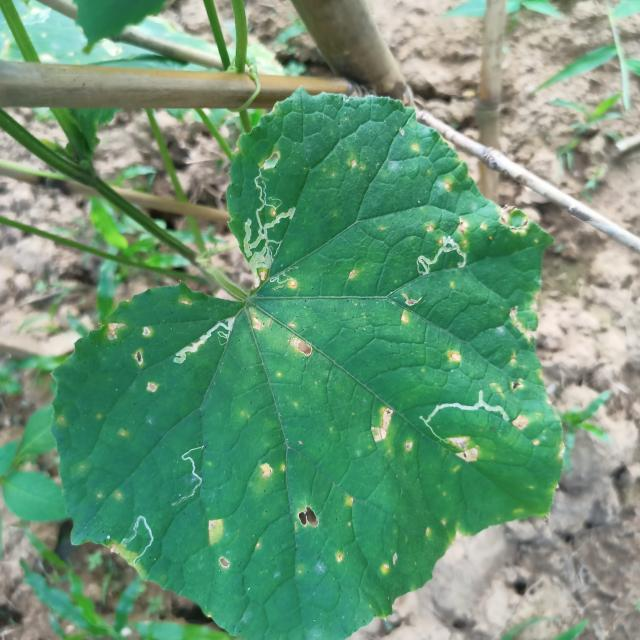disease_cucumber: (294, 490, 402, 588), (338, 130, 460, 198), (99, 316, 165, 398), (252, 279, 316, 363), (202, 514, 270, 582), (496, 304, 544, 396), (363, 404, 417, 462), (444, 432, 483, 478), (261, 456, 288, 485)
